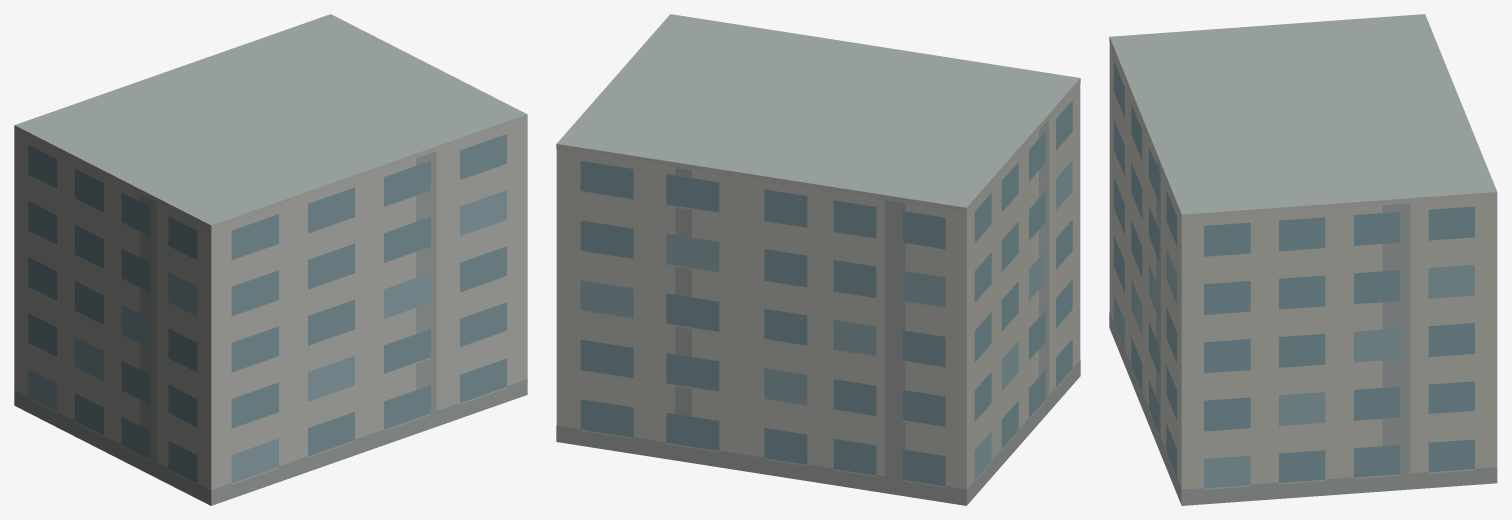
The model's file is survey-upis-32946261.glb.
3 views of the same model, side by side, from view 1: azimuth 30°, elevation 25°; view 2: azimuth 150°, elevation 25°; view 3: azimuth 270°, elevation 25° (orthographic). The views are drawn at different scales.
Parts seen in each view (by area): view 1: survey-upis-32946261.tmp; view 2: survey-upis-32946261.tmp; view 3: survey-upis-32946261.tmp.
Boxes of the visible parts, bbox=[...] form: survey-upis-32946261.tmp: bbox=[14, 14, 527, 505]; survey-upis-32946261.tmp: bbox=[556, 14, 1080, 505]; survey-upis-32946261.tmp: bbox=[1109, 14, 1497, 505].
Size of the model in its own units: 20.39 by 13.8 by 16.66.
